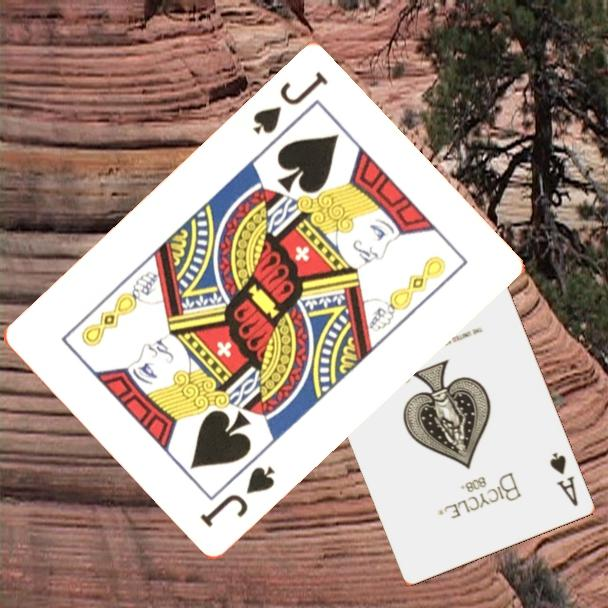s01: (546, 449, 581, 509)
s11: (249, 68, 331, 138), (196, 463, 279, 531)
